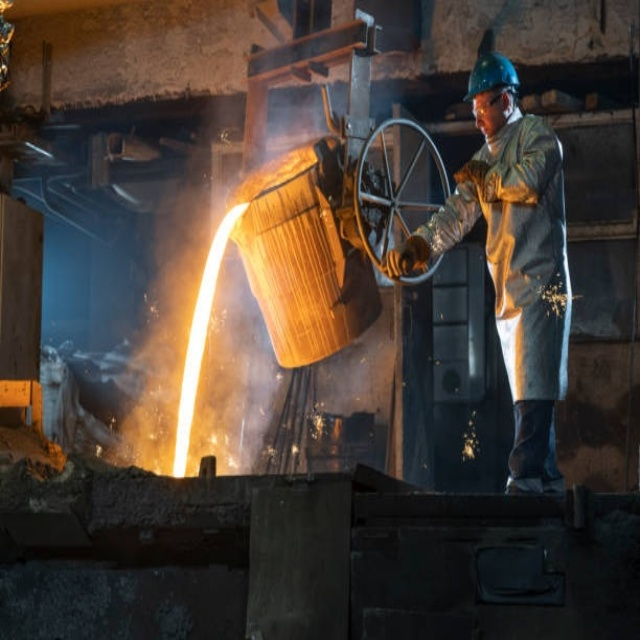Gafas: (471, 90, 510, 116)
Guantes: (382, 233, 428, 280), (452, 157, 492, 201)
Sin_mascara: (476, 117, 494, 141)
